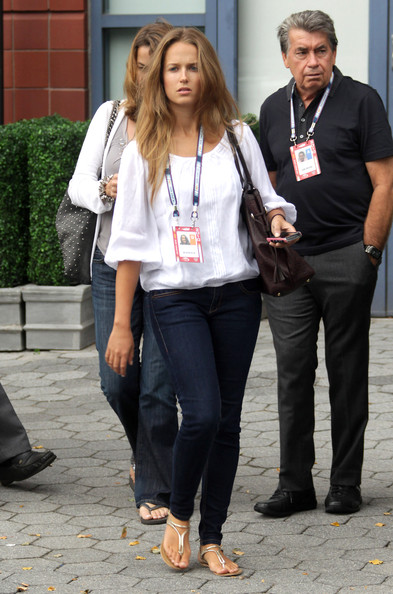Person: (118, 27, 276, 573), (266, 11, 393, 517)
